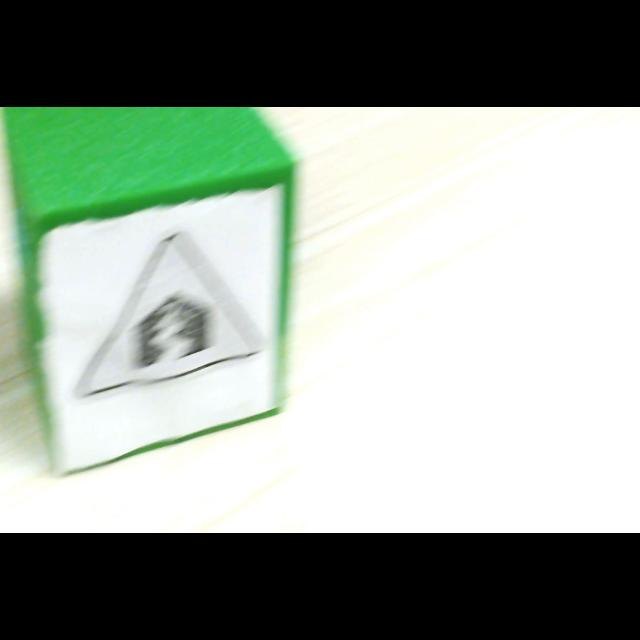Earthquake: (74, 232, 266, 399)
